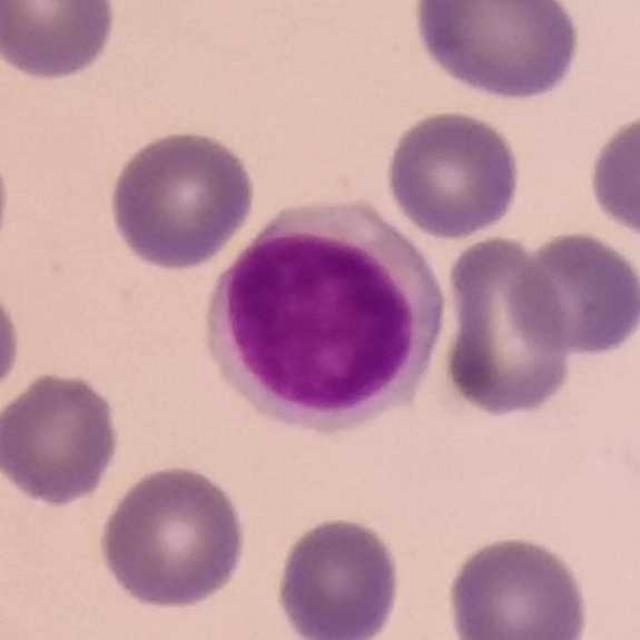Lymphocyte: (204, 193, 446, 430)
RBC: (436, 230, 576, 422), (96, 461, 250, 612), (105, 125, 259, 272), (382, 106, 524, 240), (408, 0, 586, 105), (504, 226, 640, 362), (0, 366, 124, 509), (269, 512, 406, 640), (442, 531, 594, 640), (0, 0, 120, 85), (584, 106, 640, 249), (0, 276, 24, 412)
